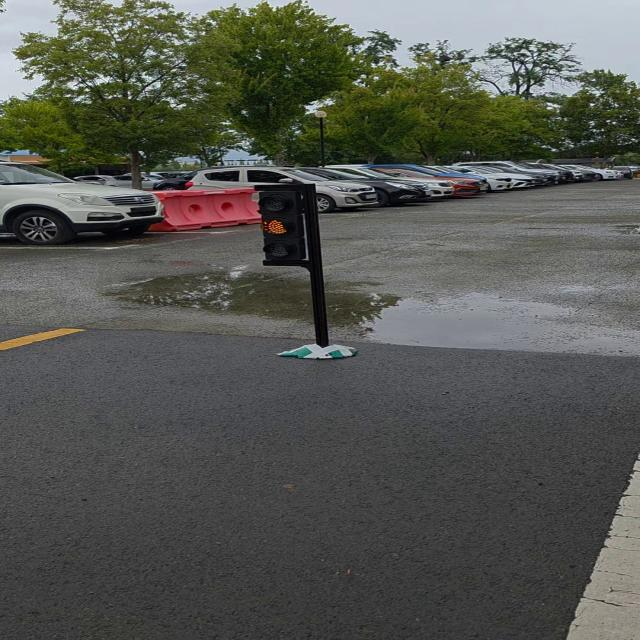yellow: (255, 184, 326, 267)
